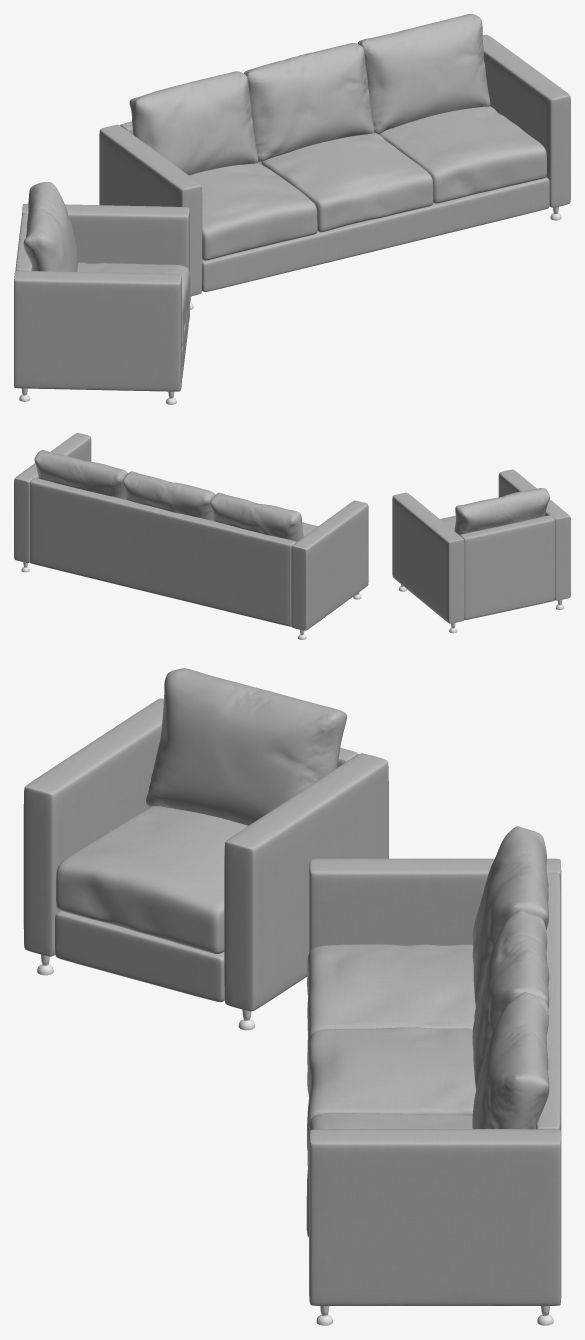
File: optimized_sofa.gltf
The picture shows the model from 3 angles, top to bottom: view 1: azimuth 30°, elevation 25°; view 2: azimuth 150°, elevation 25°; view 3: azimuth 270°, elevation 25°; orthographic projection. The views are drawn at different scales.
Visible parts, largest first — view 1: object 1, seat cousion_19, seat cousion.005_28; view 2: object 1; view 3: object 1, seat cousion.005_28, seat cousion_19.
Part boxes in pixels (<box>): object 1: <box>14,14,570,404</box>; seat cousion_19: <box>379,106,546,203</box>; seat cousion.005_28: <box>77,262,190,346</box>; object 1: <box>14,433,570,639</box>; object 1: <box>23,668,561,1325</box>; seat cousion.005_28: <box>56,806,248,953</box>; seat cousion_19: <box>306,1113,472,1237</box>.
Bounding box in the file's own units: 3.15 × 0.7848 × 1.6.
Materials: 2 (1 with a texture image).
